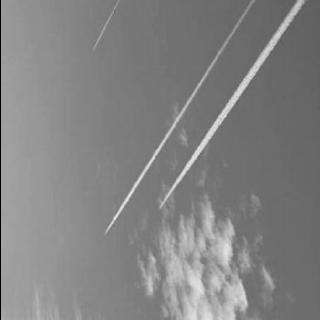Contrails: (29, 0, 320, 320)
